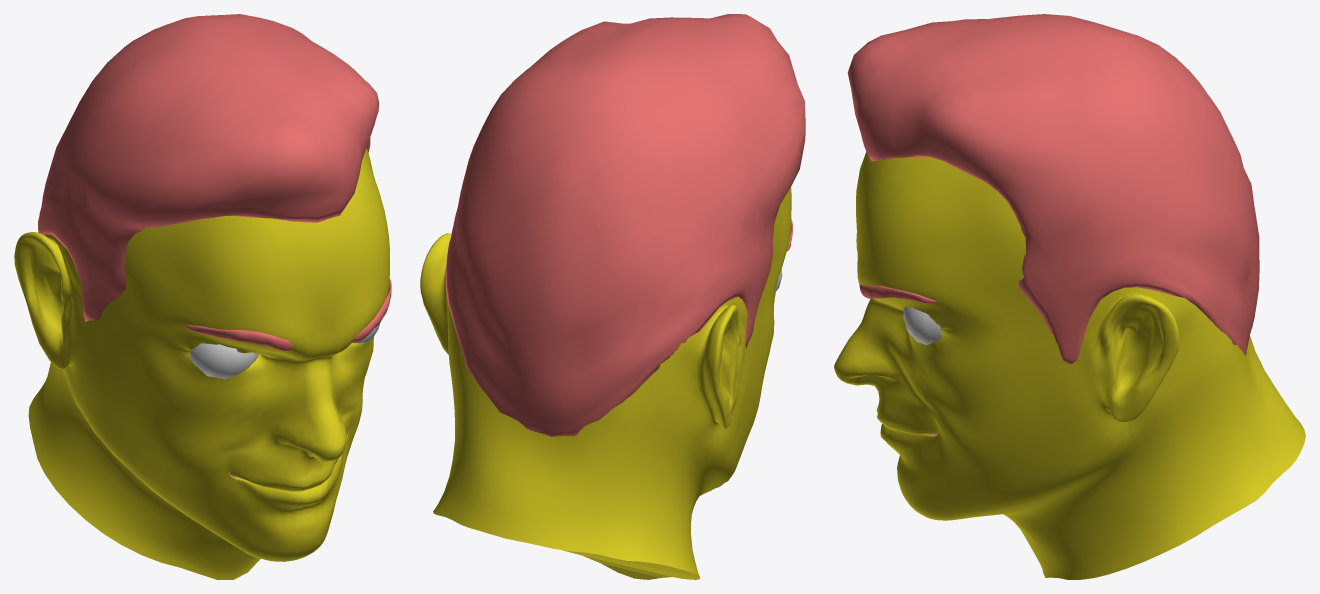
The model's file is homelander-head.fbx.
The picture shows the model from 3 angles, left to right: view 1: azimuth 30°, elevation 25°; view 2: azimuth 150°, elevation 25°; view 3: azimuth 270°, elevation 25°; orthographic projection.
Parts seen in each view (by area): view 1: Body.006; view 2: Body.006; view 3: Body.006.
Boxes of the visible parts, left/top/right/bottom form: Body.006: left=14, top=14, right=391, bottom=579; Body.006: left=420, top=14, right=805, bottom=579; Body.006: left=834, top=14, right=1305, bottom=579.
Bounding box in the file's own units: 236 × 402 × 318.
